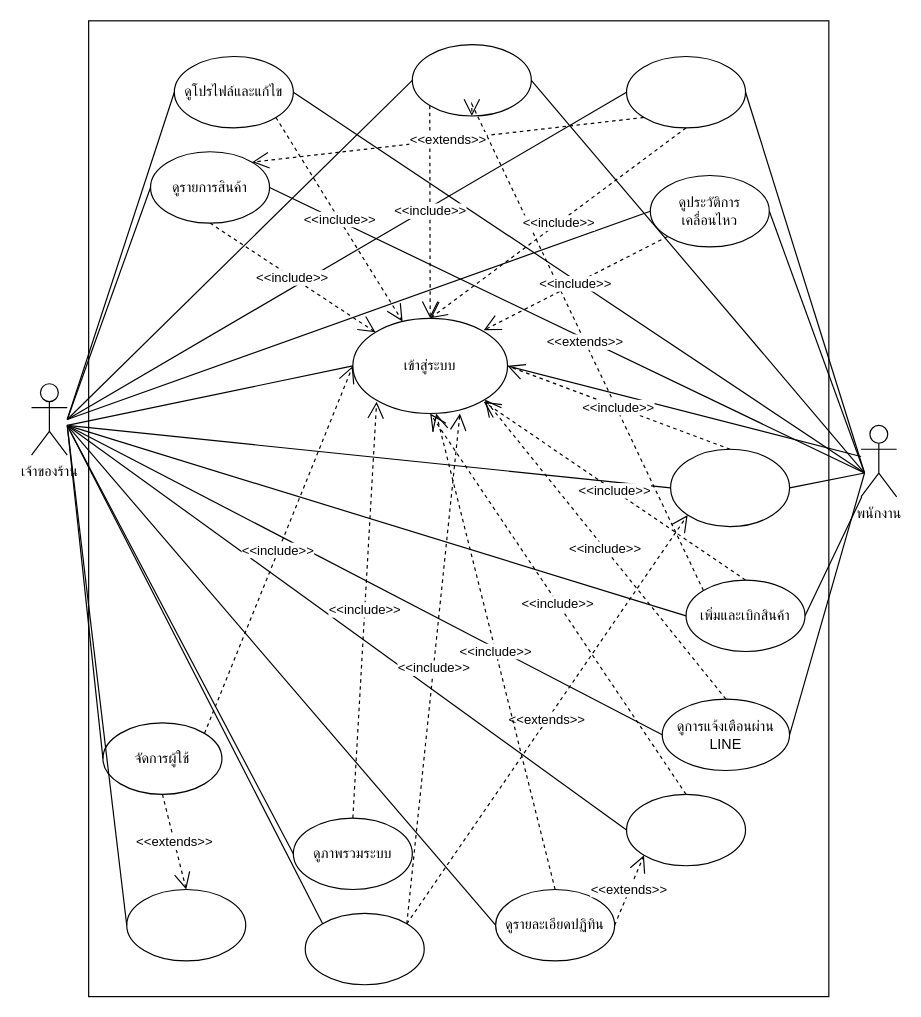
Some shapes in this 921 by 1017 pixel diagram are drawn without their labels. The shapes that lost their labels are listed below. From the top down, each one's centre as x and y in pixels, then its label:
At point 471,79: "ดูสต๊อกสินค้า".
At point 685,91: "แก้ไขและลบสินค้า".
At point 729,487: "ดูการจัดงาน".
At point 685,829: "เพิ่มงาน".
At point 186,924: "แก้ไขและลบผู้ใช้".
At point 364,948: "สร้างงานได้".
